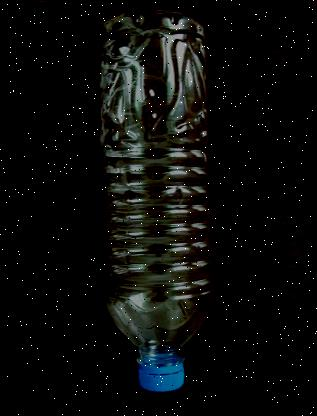Plastic Bottle: (97, 10, 213, 392)
